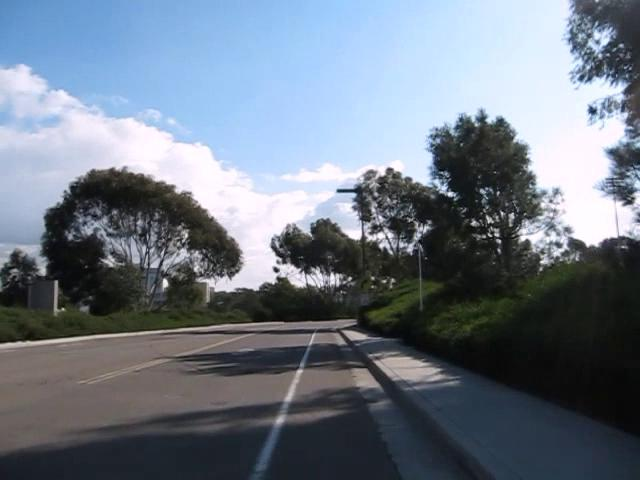speedLimitUrdbl: (358, 292, 371, 307)
